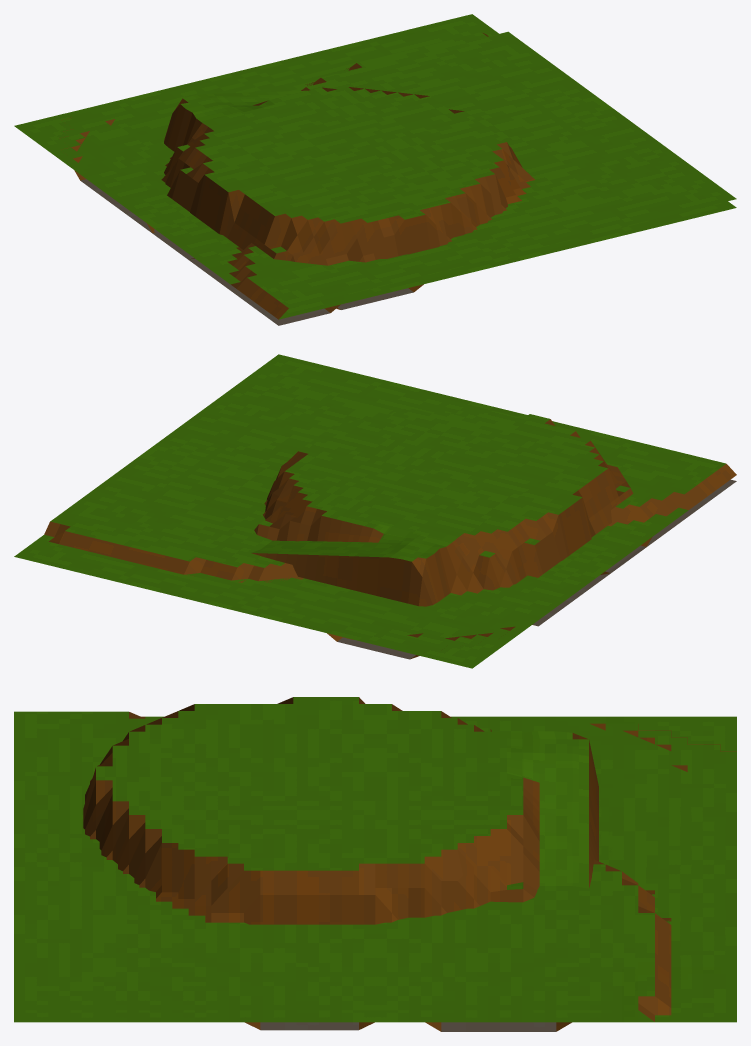
The model's file is Chunk03.glb.
3 renders of one model, top to bottom at view 1: azimuth 30°, elevation 25°; view 2: azimuth 150°, elevation 25°; view 3: azimuth 270°, elevation 25°, orthographic. The views are drawn at different scales.
Visible parts, largest first — view 1: Chunk00-noimp, Chunk02-noimp, Chunk03, Chunk01-noimp; view 2: Chunk00-noimp, Chunk02-noimp, Chunk03; view 3: Chunk00-noimp, Chunk02-noimp, Chunk03, Chunk01-noimp.
Boxes of the visible parts, x1=… form: Chunk00-noimp: x1=14, y1=32, x2=734, y2=325; Chunk02-noimp: x1=16, y1=14, x2=736, y2=319; Chunk03: x1=77, y1=113, x2=736, y2=319; Chunk01-noimp: x1=331, y1=284, x2=423, y2=309; Chunk00-noimp: x1=19, y1=408, x2=736, y2=668; Chunk02-noimp: x1=14, y1=354, x2=736, y2=667; Chunk03: x1=363, y1=537, x2=652, y2=638; Chunk00-noimp: x1=14, y1=697, x2=736, y2=1022; Chunk02-noimp: x1=14, y1=711, x2=736, y2=1021; Chunk03: x1=14, y1=723, x2=687, y2=1031; Chunk01-noimp: x1=245, y1=1010, x2=572, y2=1030.
Size of the model in its own units: 64 by 6.39 by 64.
Materials: 3 (3 with a texture image).
